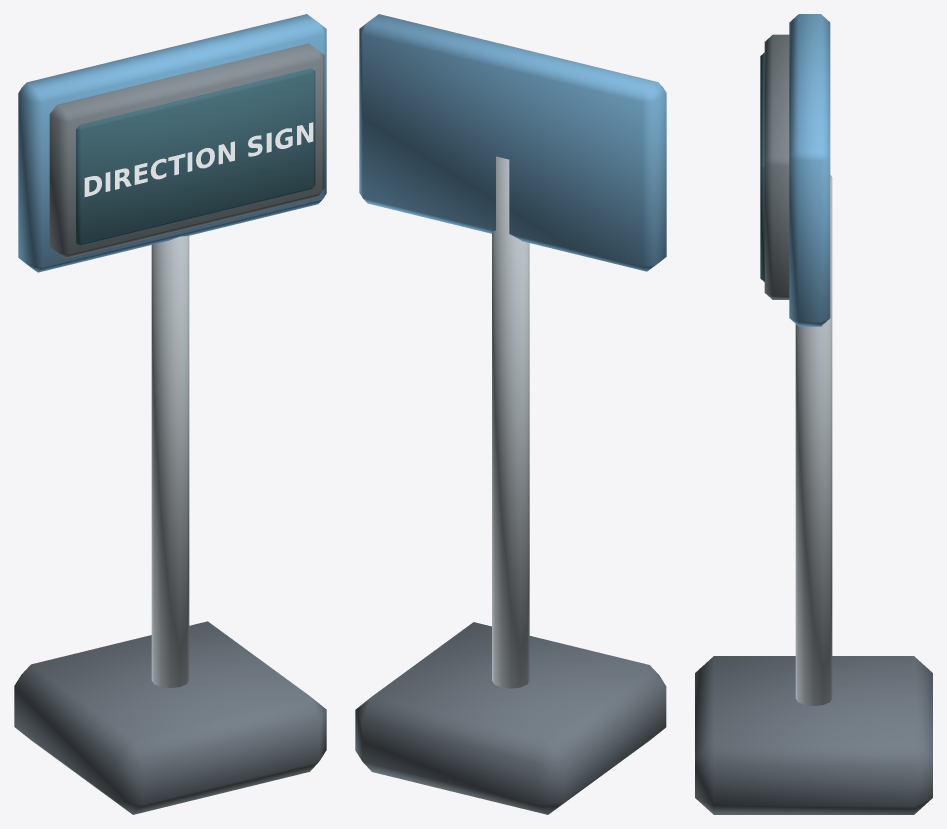
File: direction_sign_standard.glb
3 views of the same model, side by side, from view 1: azimuth 30°, elevation 25°; view 2: azimuth 150°, elevation 25°; view 3: azimuth 270°, elevation 25° (orthographic).
Visible parts, largest first — view 1: Base_dark_legacy_0, SignPlate_glass, Pole_steel_legacy_1, Sign_blue_legacy_2, ScreenMount_frame, TypeLabel_white; view 2: Sign_blue_legacy_2, Base_dark_legacy_0, Pole_steel_legacy_1; view 3: Base_dark_legacy_0, Pole_steel_legacy_1, Sign_blue_legacy_2, ScreenMount_frame, SignPlate_glass.
Boxes of the visible parts, left/top/right/bottom form: Base_dark_legacy_0: left=14, top=621, right=326, bottom=814; SignPlate_glass: left=76, top=68, right=315, bottom=245; Pole_steel_legacy_1: left=151, top=236, right=189, bottom=687; Sign_blue_legacy_2: left=18, top=14, right=326, bottom=272; ScreenMount_frame: left=49, top=43, right=324, bottom=258; TypeLabel_white: left=84, top=122, right=313, bottom=196; Sign_blue_legacy_2: left=359, top=14, right=666, bottom=271; Base_dark_legacy_0: left=355, top=622, right=666, bottom=814; Pole_steel_legacy_1: left=492, top=156, right=529, bottom=688; Base_dark_legacy_0: left=695, top=656, right=932, bottom=814; Pole_steel_legacy_1: left=795, top=175, right=832, bottom=705; Sign_blue_legacy_2: left=789, top=14, right=830, bottom=326; ScreenMount_frame: left=764, top=34, right=789, bottom=299; SignPlate_glass: left=760, top=52, right=764, bottom=281.
Size of the model in its own units: 0.82 by 1.86 by 0.58.
